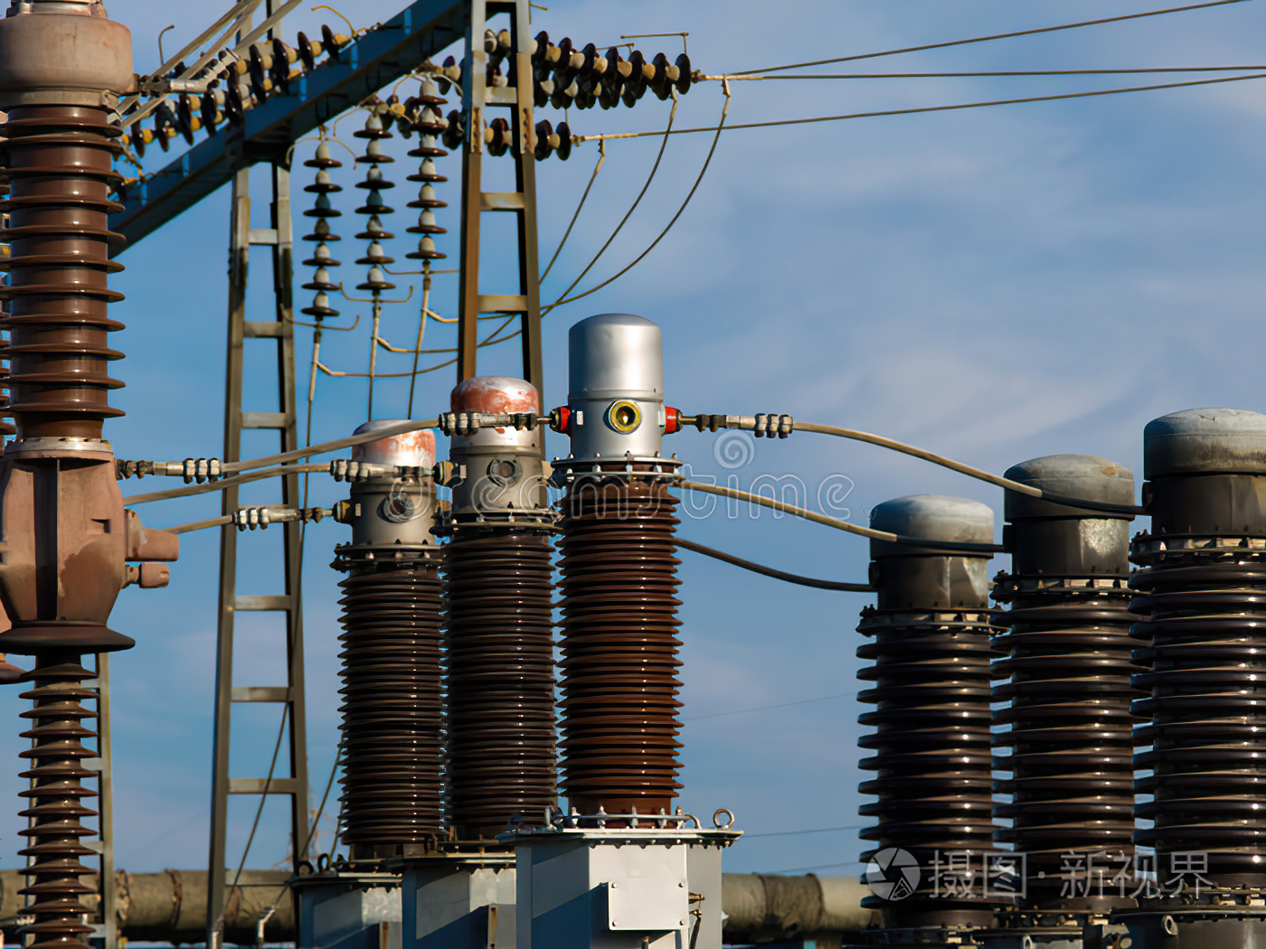insulator: (437, 42, 700, 113), (165, 19, 345, 93), (377, 100, 572, 163), (353, 120, 398, 298), (121, 88, 246, 152), (301, 154, 341, 319), (408, 91, 446, 260)
